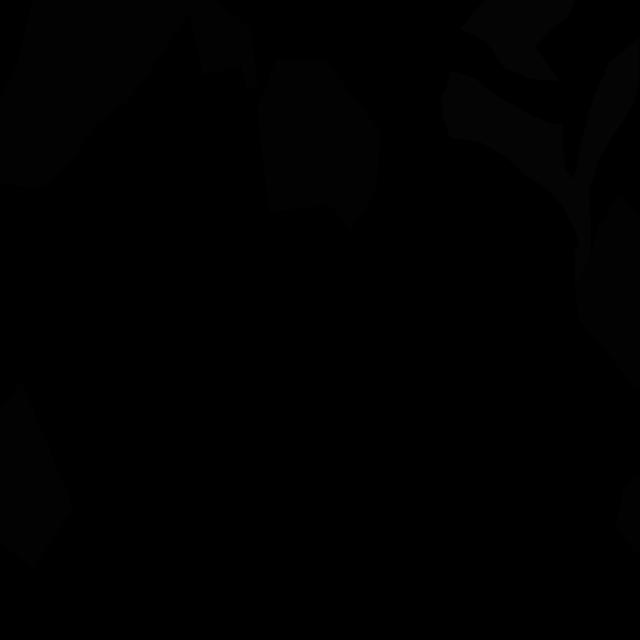cardboard: (0, 0, 258, 188), (257, 60, 381, 230), (0, 381, 73, 570), (575, 195, 640, 390), (615, 473, 640, 556)
soft_plastic: (441, 71, 580, 244), (572, 36, 640, 283), (460, 0, 575, 81)
